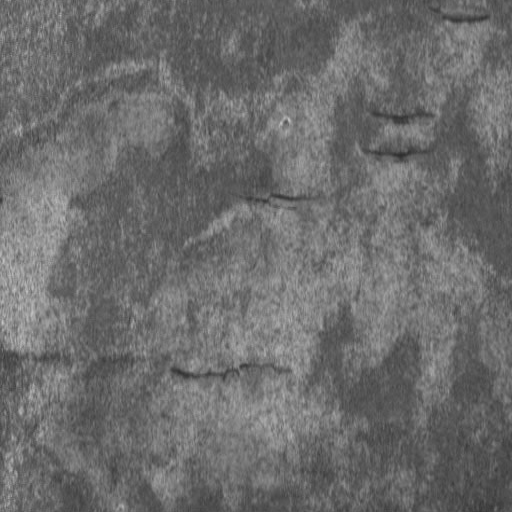hengxiangliewen: (167, 361, 296, 381), (228, 189, 323, 208), (362, 144, 436, 167), (428, 5, 492, 28), (365, 107, 436, 127)
